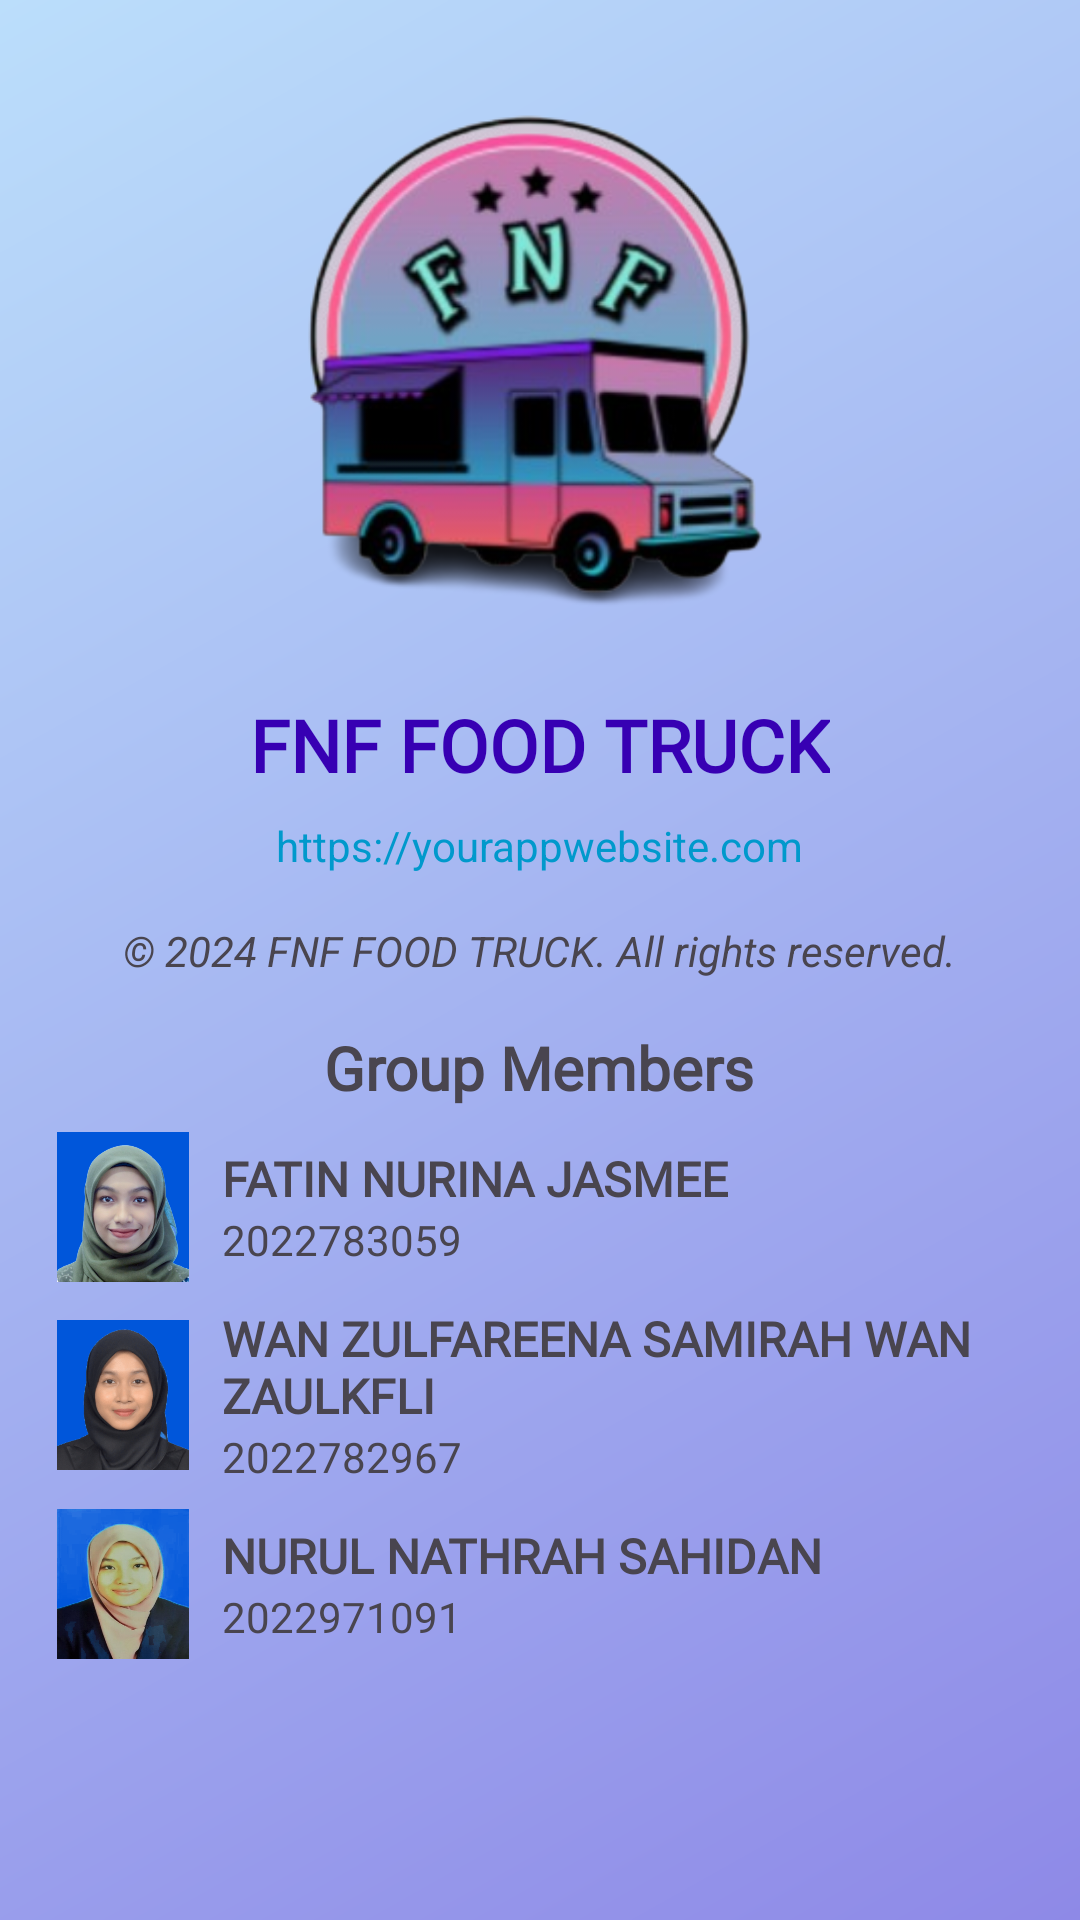

Named icons in this screenshot (1080px x 1920px) and their bounding boxes, (x1, y1, x2, y2):
Member 1 Image: (57, 1132, 189, 1282)
Member 2 Image: (57, 1320, 189, 1470)
Member 3 Image: (57, 1509, 189, 1659)
